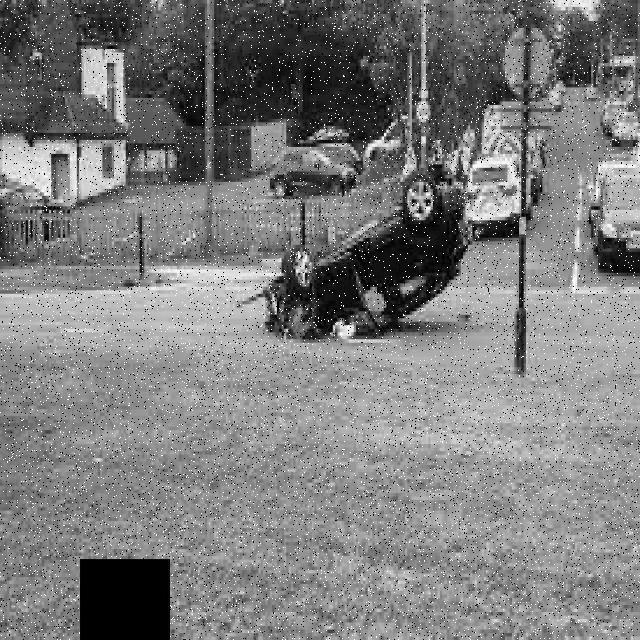accident: (257, 159, 474, 348)
vehicle: (0, 164, 83, 256), (477, 102, 549, 189), (270, 137, 359, 201), (465, 155, 533, 229), (599, 169, 640, 283), (602, 99, 640, 149)
